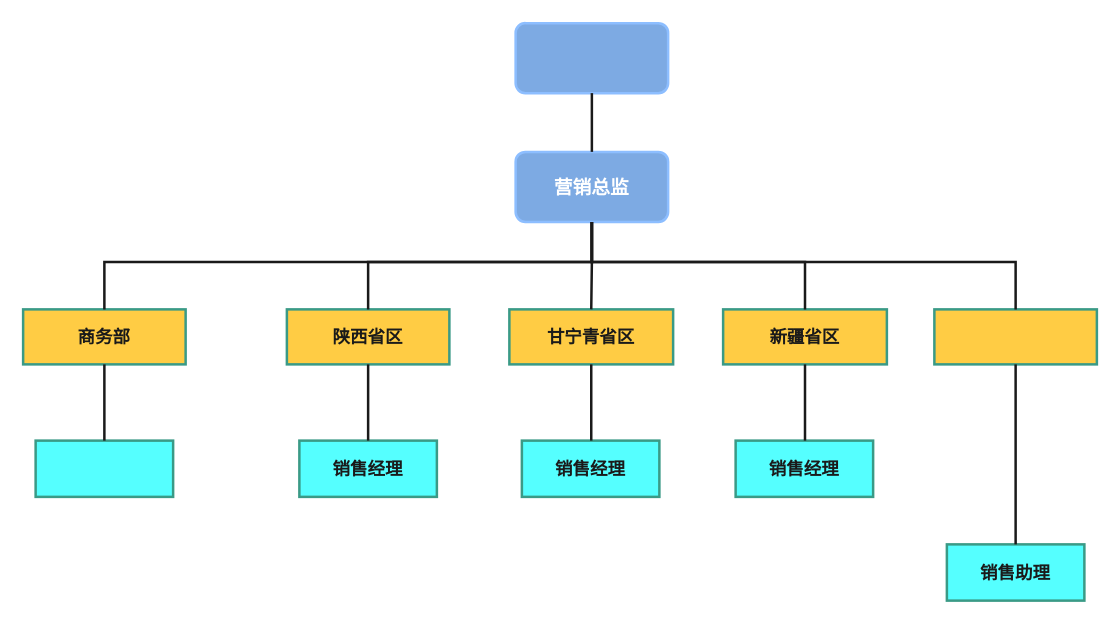
Image size: 1119x623. Some labels were removed from this diagram. Here are the shapes that lost their labels. From the top down, the centre of each, then its label:
point (591, 57): 营销中心
point (1015, 336): 其他省区
point (104, 468): 商务部经理
